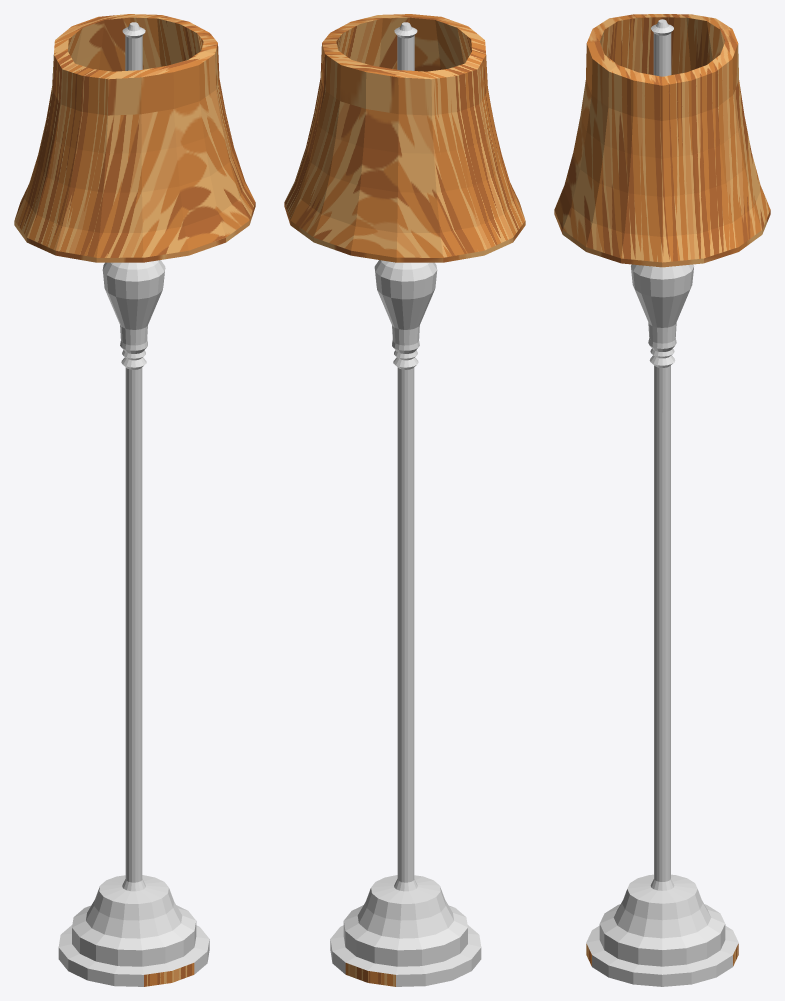
Rendered from lampara.fbx.
3 renders of one model, left to right at view 1: azimuth 30°, elevation 25°; view 2: azimuth 150°, elevation 25°; view 3: azimuth 270°, elevation 25°, orthographic.
Visible parts, largest first — view 1: Cilindro; view 2: Cilindro; view 3: Cilindro.
Part boxes in pixels (left/top/right/bottom): Cilindro: left=14, top=14, right=255, bottom=986; Cilindro: left=284, top=14, right=525, bottom=986; Cilindro: left=554, top=14, right=770, bottom=986.
Size of the model in its own units: 493 by 2029 by 426.
